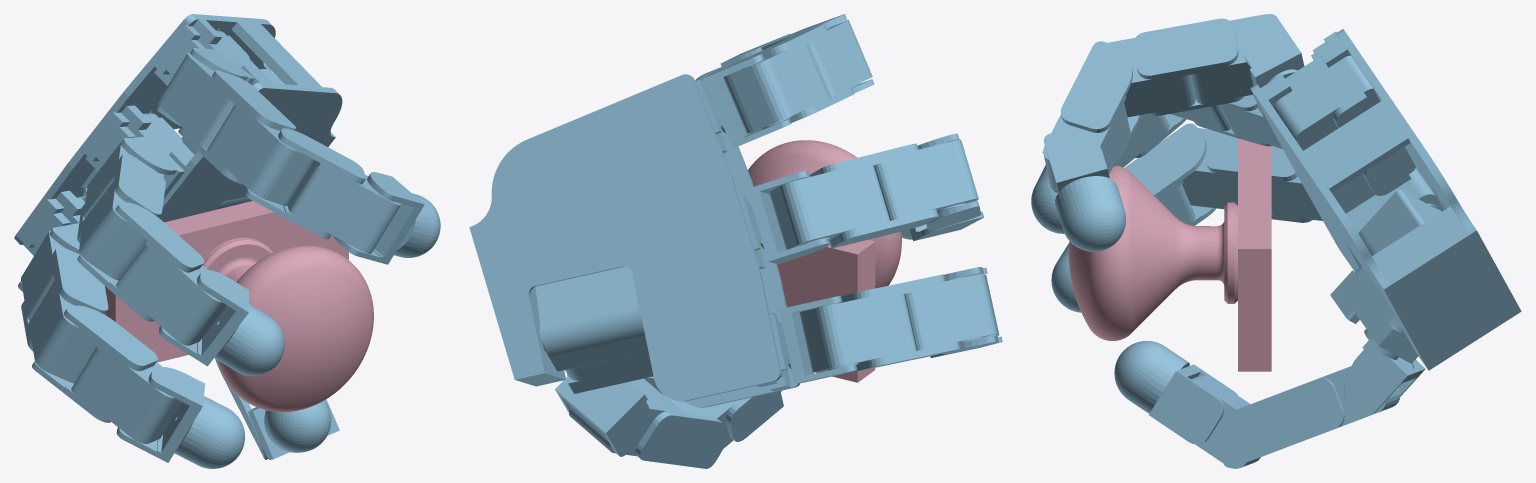
The picture shows the model from 3 angles, left to right: view 1: azimuth 30°, elevation 25°; view 2: azimuth 150°, elevation 25°; view 3: azimuth 270°, elevation 25°; orthographic projection. The views are drawn at different scales.
Parts seen in each view (by area): view 1: world, door_knob.stl; view 2: world, door_knob.stl; view 3: world, door_knob.stl.
Part boxes in pixels (box(x1,y1,x2,y2)): world: box(14, 14, 440, 468); door_knob.stl: box(105, 201, 373, 412); world: box(469, 14, 1002, 468); door_knob.stl: box(748, 140, 901, 382); world: box(1031, 14, 1521, 468); door_knob.stl: box(1068, 138, 1271, 371).
Size of the model in its own units: 0.1678 by 0.1706 by 0.1812.
